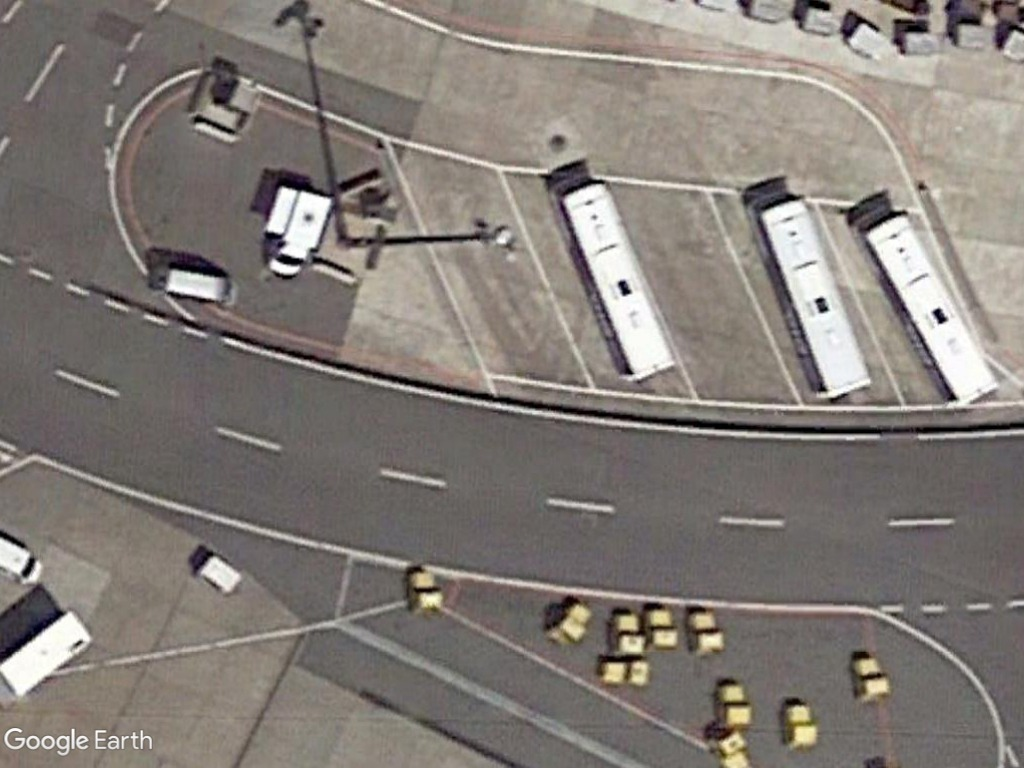bus: (546, 171, 682, 392), (747, 189, 878, 406), (865, 206, 1001, 405)
